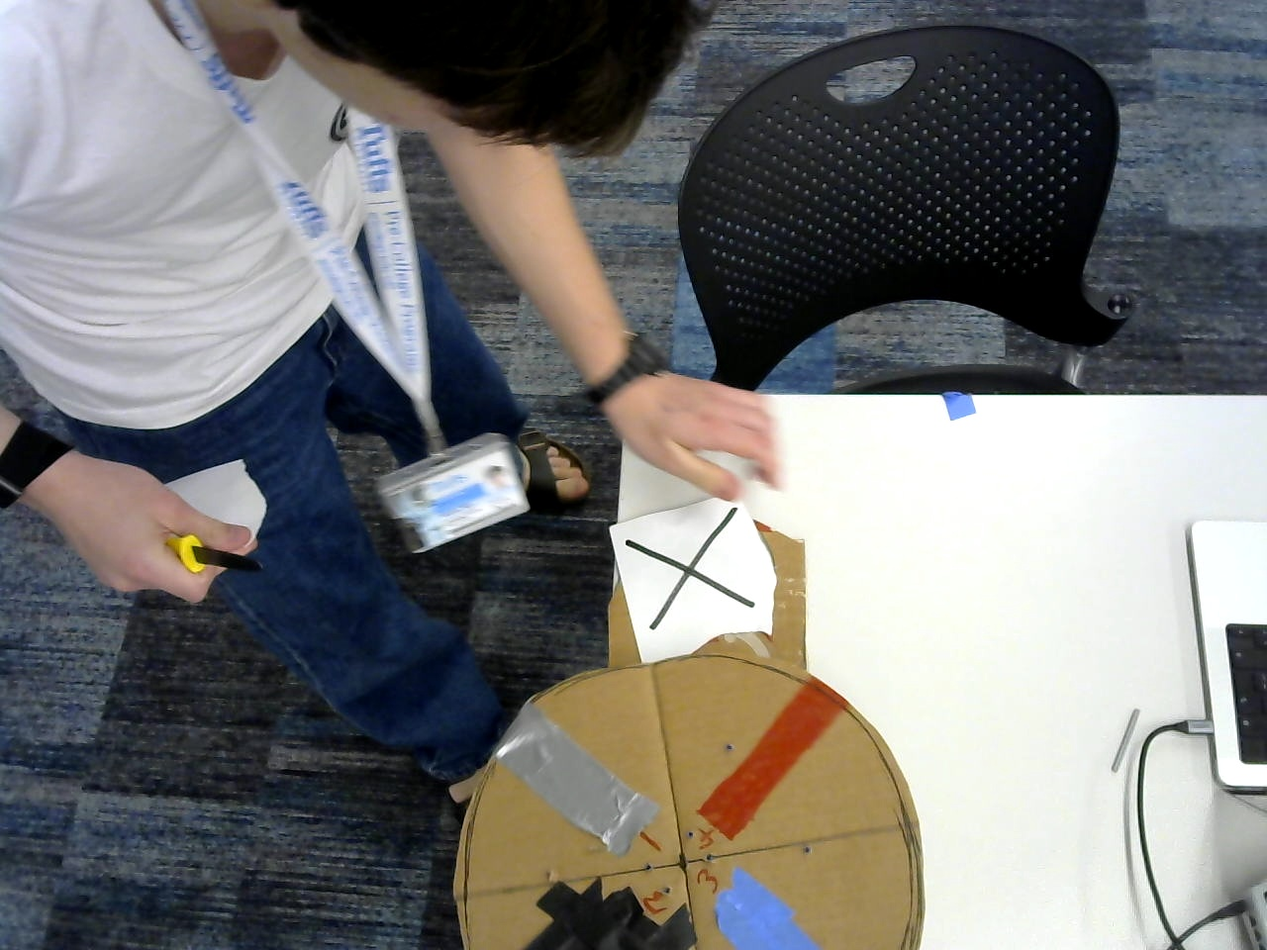black: (504, 884, 692, 950)
blue: (711, 868, 873, 950)
red: (697, 682, 844, 840)
silver: (500, 705, 661, 855)
x: (628, 507, 755, 627)
